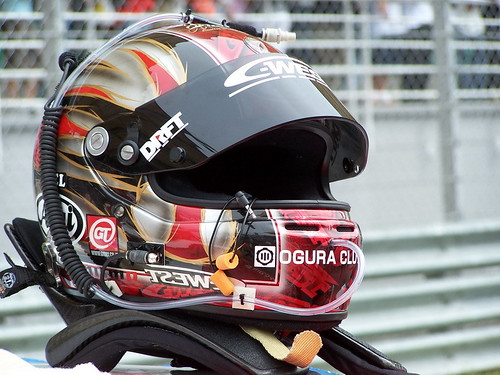helmet: (48, 11, 363, 310)
